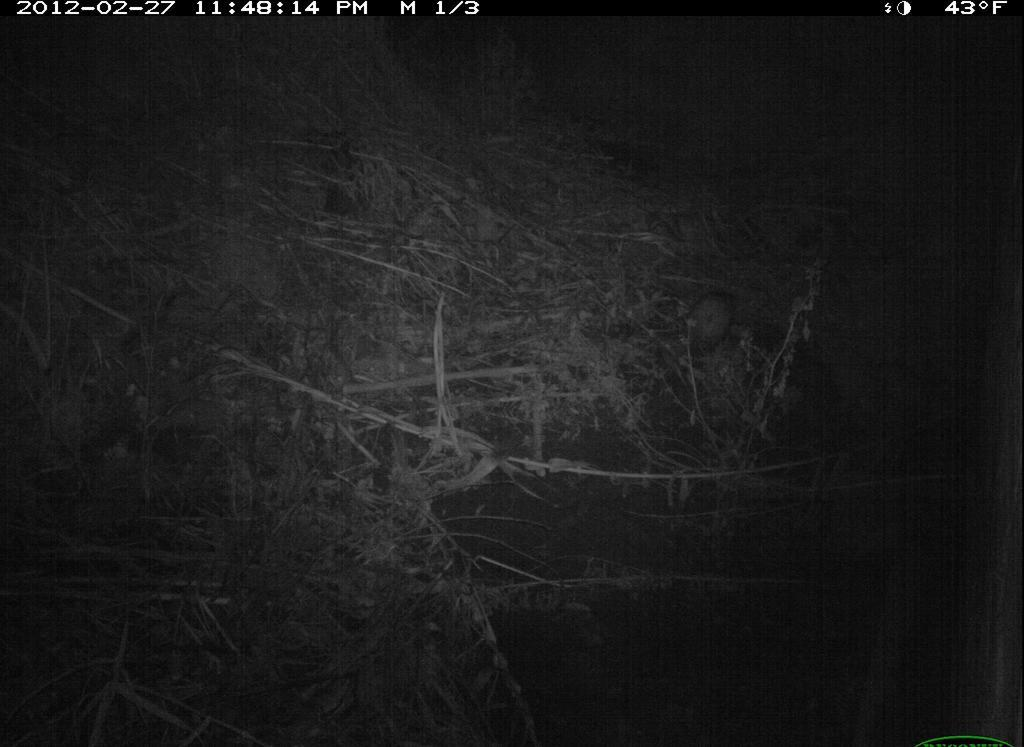opossum: (653, 286, 761, 358)
